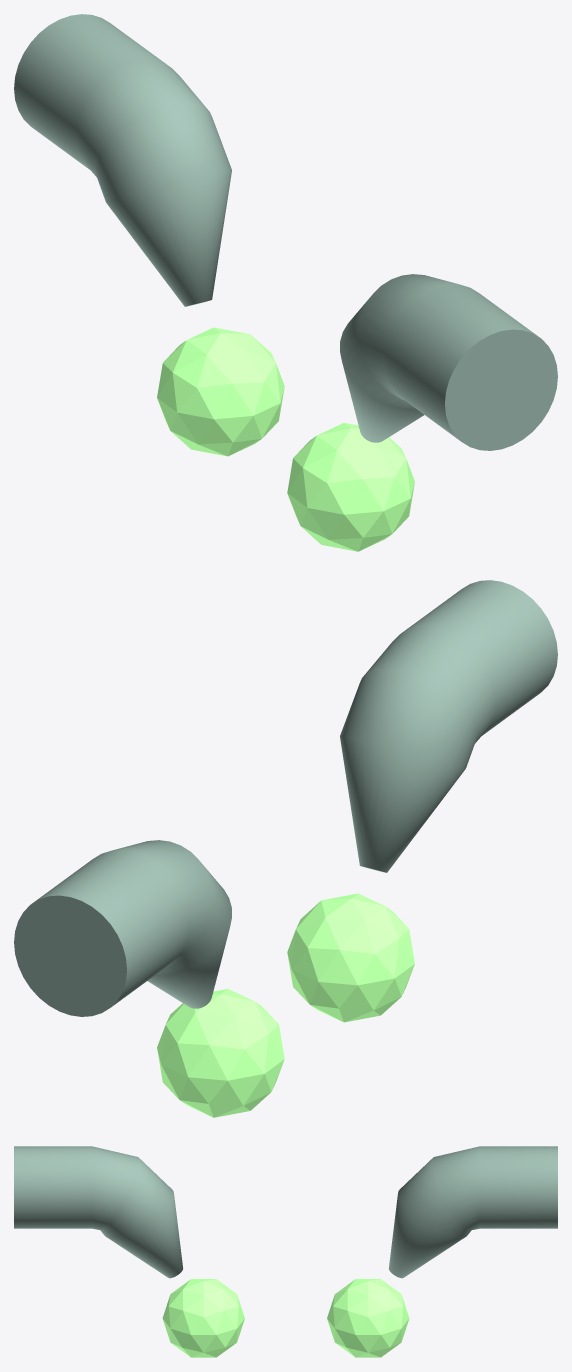
File: Tech8.fbx
3 views of the same model, one above another, from view 1: azimuth 30°, elevation 25°; view 2: azimuth 150°, elevation 25°; view 3: azimuth 270°, elevation 25° (orthographic). The views are drawn at different scales.
Parts seen in each view (by area): view 1: Tech8, Tech8_Orbs; view 2: Tech8, Tech8_Orbs; view 3: Tech8, Tech8_Orbs.
Boxes of the visible parts, <box> form: Tech8: <box>14,14,557,450</box>; Tech8_Orbs: <box>157,327,414,551</box>; Tech8: <box>14,580,557,1016</box>; Tech8_Orbs: <box>157,893,414,1117</box>; Tech8: <box>14,1146,557,1278</box>; Tech8_Orbs: <box>162,1279,409,1357</box>.
Size of the model in its own units: 200 by 550 by 1319.
